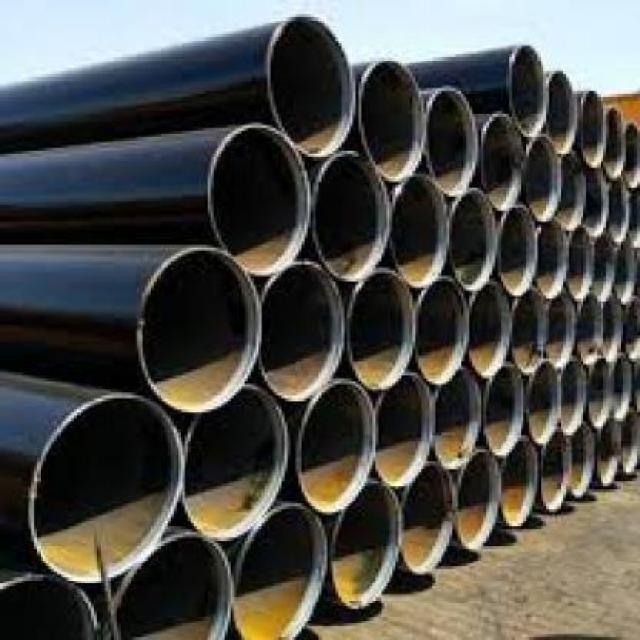pipe: (26, 386, 187, 585), (134, 239, 265, 416), (178, 380, 294, 543), (202, 122, 316, 282), (102, 529, 233, 640), (262, 11, 358, 160), (229, 500, 329, 640), (252, 258, 345, 406), (310, 148, 395, 282), (296, 379, 378, 516), (355, 55, 428, 186), (343, 264, 417, 393), (328, 480, 399, 613), (384, 172, 452, 292), (371, 374, 436, 490), (410, 271, 473, 388), (395, 460, 457, 578), (0, 570, 102, 639), (420, 85, 482, 198), (426, 364, 486, 472), (450, 449, 506, 557), (445, 183, 498, 289), (464, 278, 517, 380), (474, 107, 523, 213), (496, 429, 545, 529), (515, 131, 566, 222), (493, 203, 539, 300), (481, 361, 527, 457), (504, 41, 552, 132), (521, 356, 563, 444), (508, 283, 546, 379), (541, 65, 581, 156), (576, 84, 613, 170), (533, 217, 570, 302), (564, 219, 597, 304), (555, 356, 589, 436), (543, 290, 577, 368), (577, 163, 611, 237), (555, 147, 584, 232), (542, 430, 570, 516), (565, 418, 594, 498), (579, 160, 607, 240), (584, 352, 612, 426), (574, 293, 600, 370), (601, 103, 627, 180), (611, 240, 640, 308), (595, 418, 623, 486), (605, 180, 633, 245), (618, 412, 640, 477), (591, 241, 610, 290)
